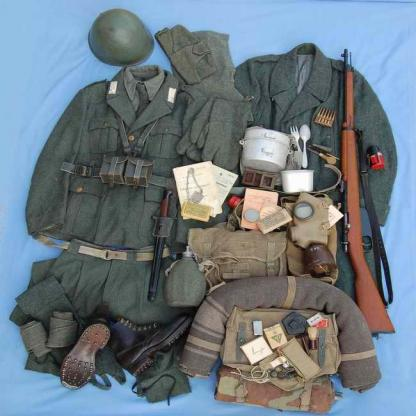Grenade: (364, 143, 386, 172)
Gun: (338, 45, 396, 335)
Knife: (146, 190, 172, 304)
